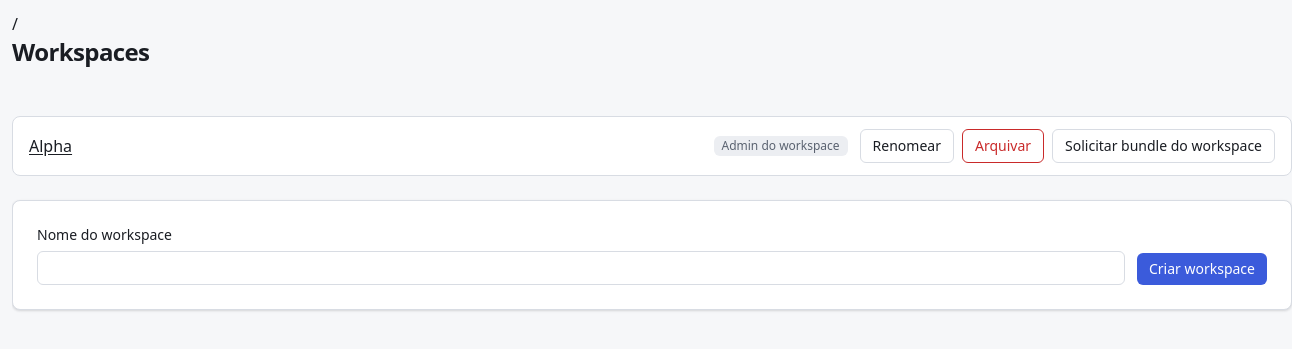
Scenario: WorkspaceListPage (NAV-01, NAV-06..08, NAV-13..23) › confirming the request POSTs /workspaces/:id/bundles and shows the explicit no-tracking message on 200 (XPRT-14)
The width and height of the screenshot is (1292, 349).
Expected: the link "Alpha" is shown, [29,135,72,157]
What coordinates should you click on to do the following:
click the button "Solicitar bundle do workspace"
I would click on:
 (1164, 146)
Its box is [1052,129,1275,163].
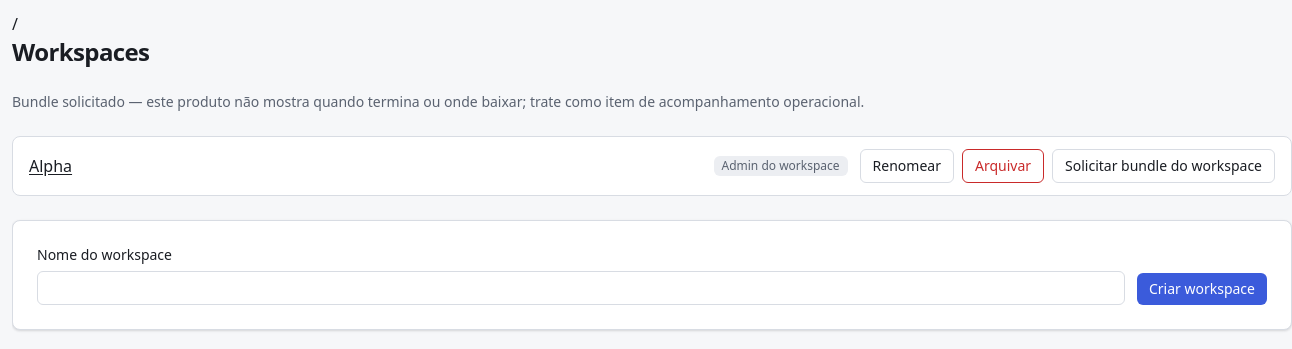
Now the text with test id "workspace-announcement" shows "Bundle solicitado — este produto não mostra quando termina ou onde baixar; trate como item de acompanhamento operacional.", box [12,92,864,111]
